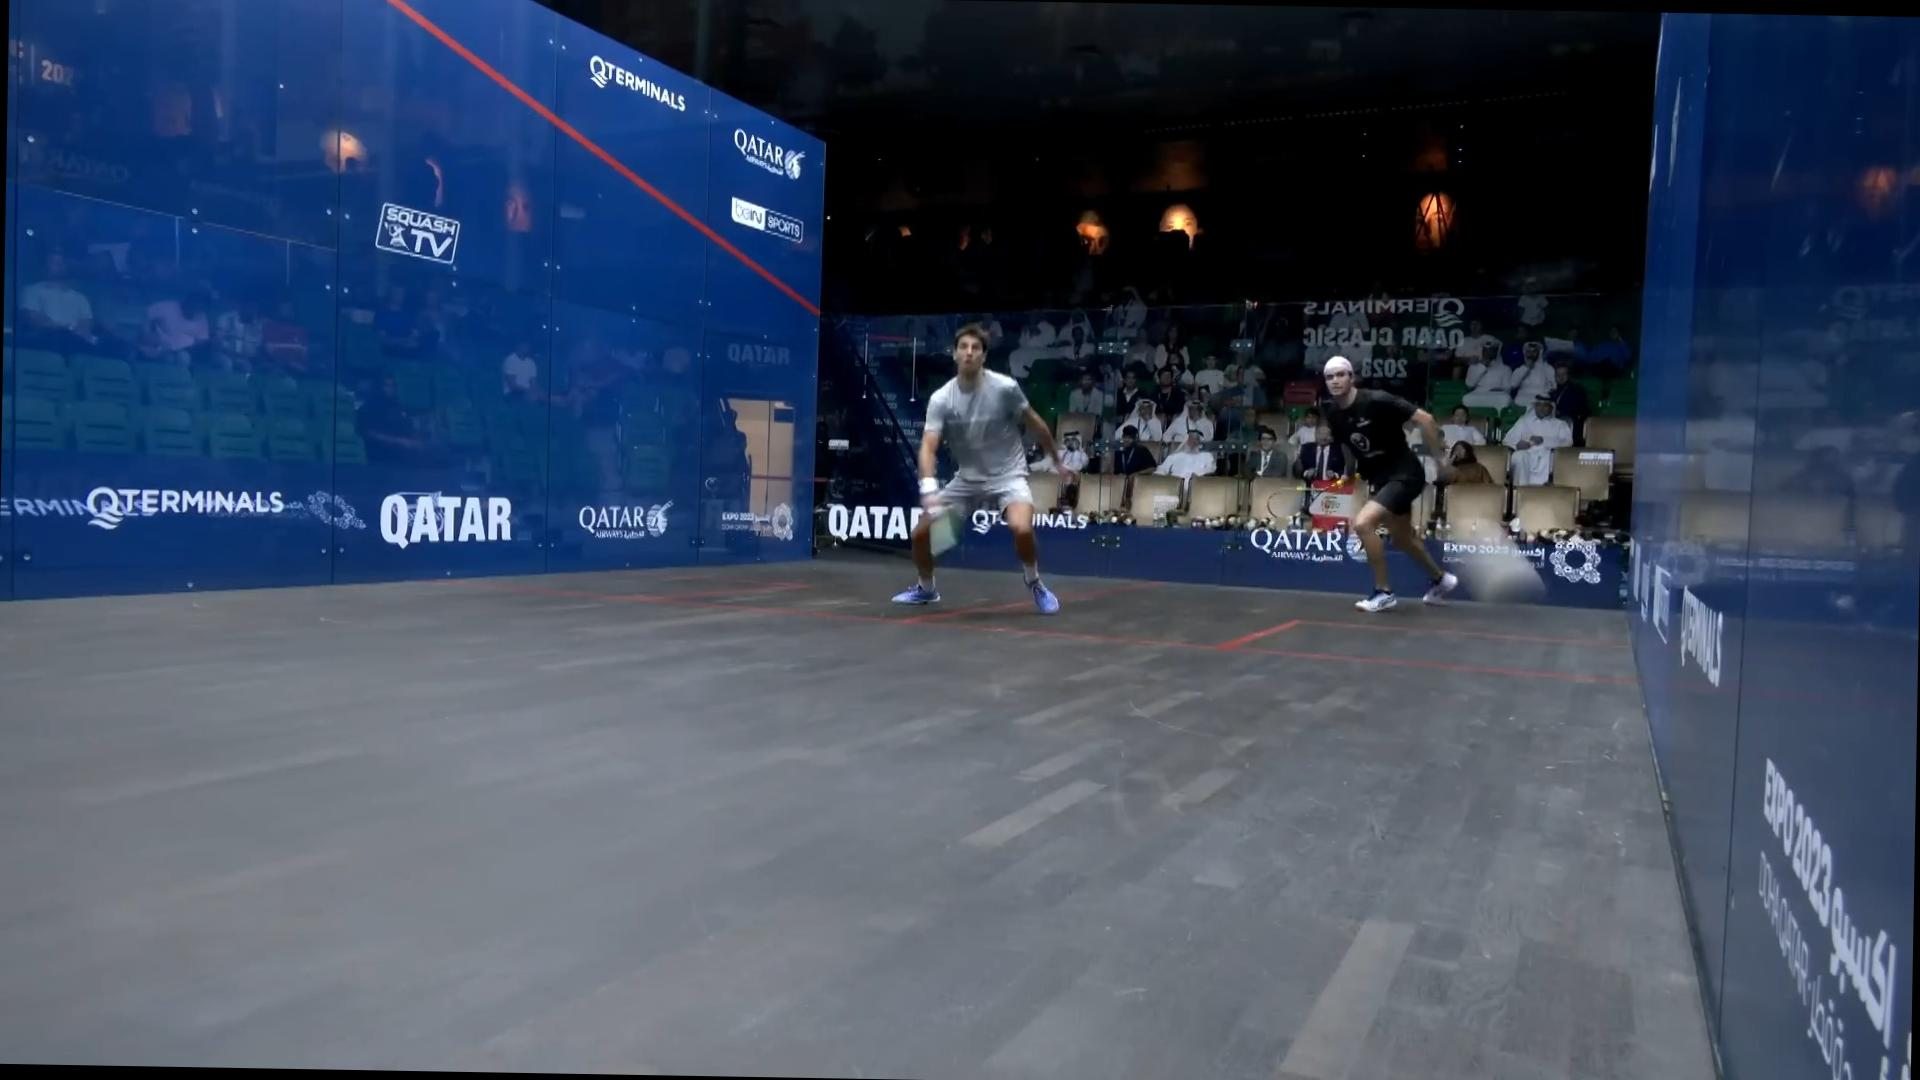Racket: (1261, 476, 1338, 525)
